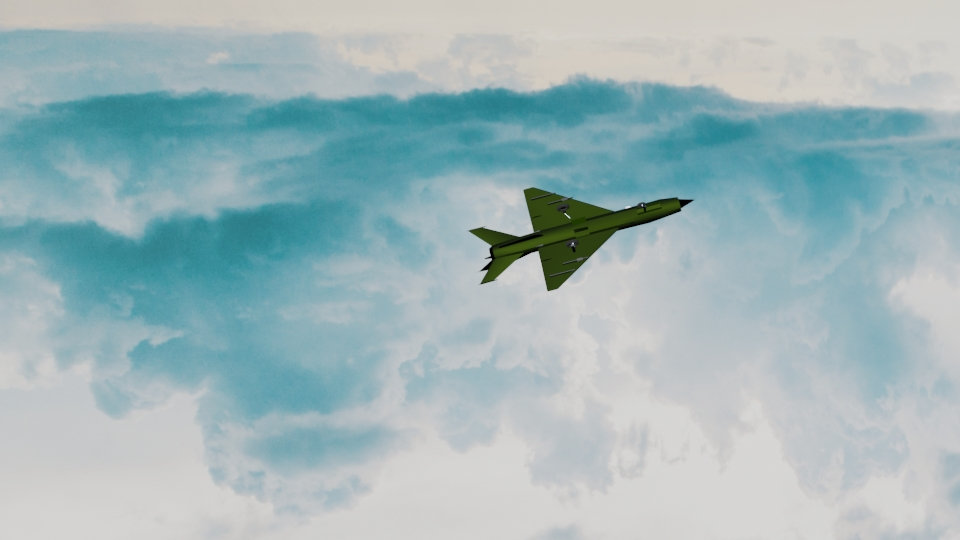plane: (473, 180, 692, 288)
